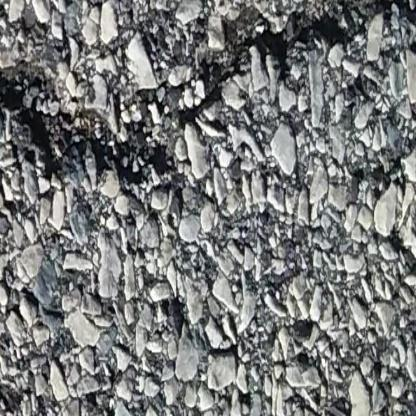Cracks: (0, 0, 416, 186)
